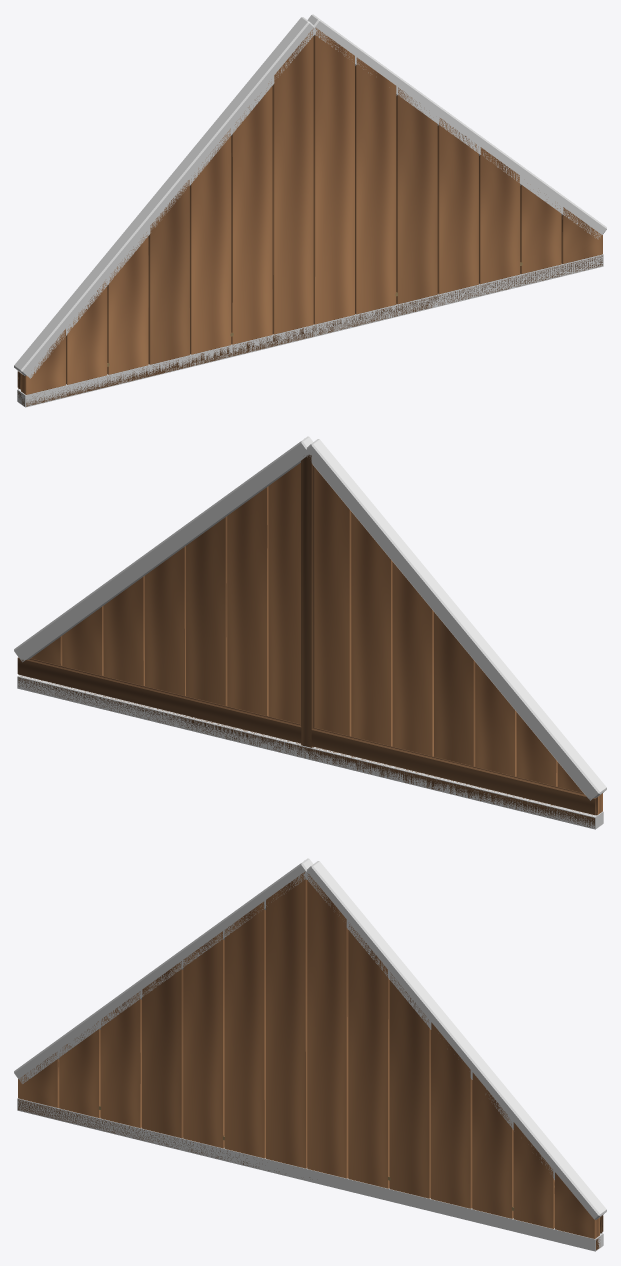
Rendered from town_building_gable_screen_v01.fbx.
3 renders of one model, top to bottom at view 1: azimuth 30°, elevation 25°; view 2: azimuth 150°, elevation 25°; view 3: azimuth 330°, elevation 25°, orthographic.
Visible parts, largest first — view 1: LOD0_Static, COL_GableSlope_-1, COL_GableBase, COL_GableSlope_1, LOD1_Static; view 2: LOD0_Static, COL_GableSlope_-1, COL_GableBase, COL_GableSlope_1, LOD2_Static, LOD1_Static; view 3: LOD0_Static, COL_GableSlope_1, COL_GableBase, COL_GableSlope_-1.
Part boxes in pixels (x1,y1,x2,y2): LOD0_Static: (17,28,602,406); COL_GableSlope_-1: (14,17,317,378); COL_GableBase: (17,254,603,407); COL_GableSlope_1: (308,14,606,239); LOD1_Static: (148,84,273,354); LOD0_Static: (17,454,602,827); COL_GableSlope_-1: (306,439,606,800); COL_GableBase: (17,675,603,829); COL_GableSlope_1: (14,436,312,662); LOD2_Static: (30,466,597,815); LOD1_Static: (60,486,268,705); LOD0_Static: (18,872,603,1250); COL_GableSlope_1: (303,861,606,1219); COL_GableBase: (17,1098,603,1251); COL_GableSlope_-1: (14,858,312,1083).
Bounding box in the file's own units: 3.55 × 1.83 × 0.085.
Materials: 2 (2 with a texture image).
